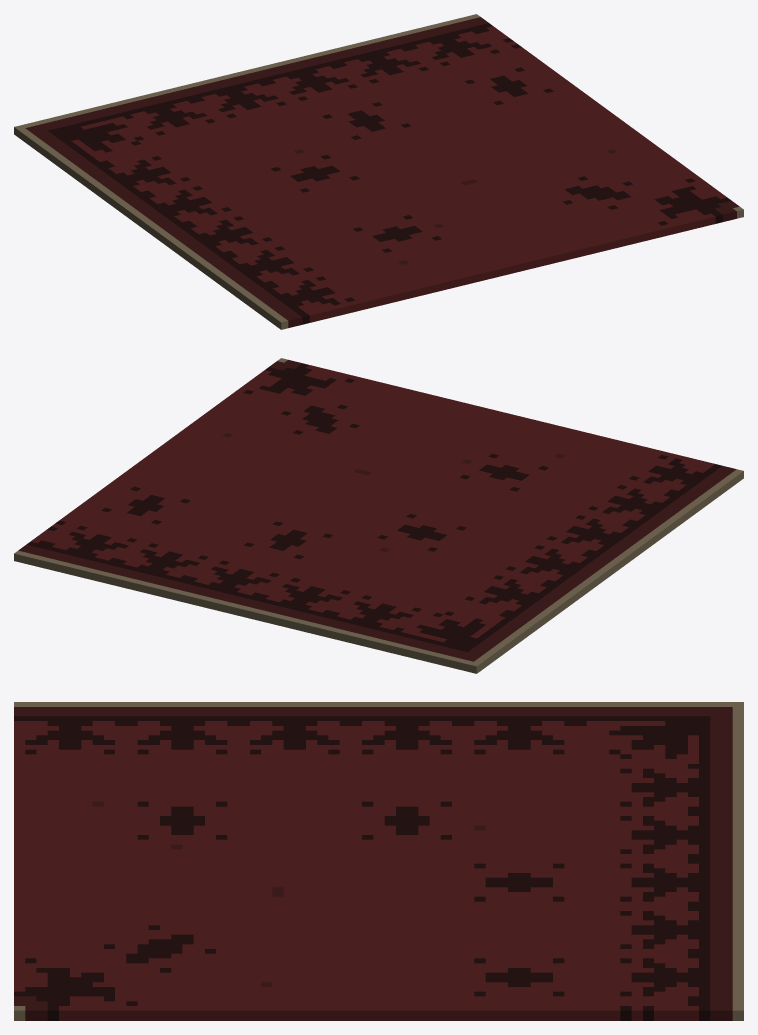
File: GGJ floor corner 02.2.obj
3 views of the same model, one above another, from view 1: azimuth 30°, elevation 25°; view 2: azimuth 150°, elevation 25°; view 3: azimuth 270°, elevation 25° (orthographic). The views are drawn at different scales.
Bounding box in the file's own units: 6.5 × 0.1 × 6.5.
1 material, 1 textured.
